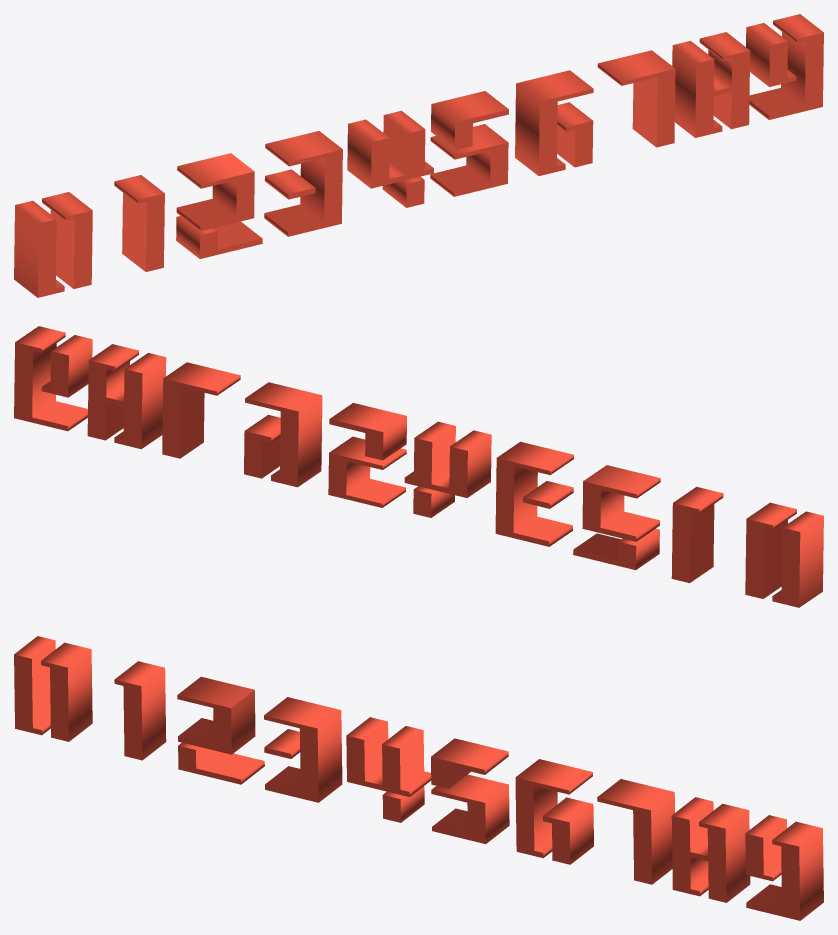
File: numbers.glb
The picture shows the model from 3 angles, top to bottom: view 1: azimuth 30°, elevation 25°; view 2: azimuth 150°, elevation 25°; view 3: azimuth 330°, elevation 25°; orthographic projection.
Visible parts, largest first — view 1: Zero, Eight, Six, Nine, Two, Three, Five, Four, Seven, One; view 2: Zero, Eight, Six, Nine, Two, Three, Five, Four, Seven, One; view 3: Zero, Eight, Nine, Six, Two, Three, Five, Four, Seven, One.
Boxes of the visible parts, x1,y1,x2,y2 form: Zero: (14, 192, 92, 297); Eight: (672, 32, 750, 137); Six: (515, 70, 593, 175); Nine: (746, 14, 823, 119); Two: (176, 153, 262, 258); Three: (264, 131, 342, 236); Five: (430, 91, 508, 196); Four: (347, 110, 433, 207); Seven: (597, 50, 675, 147); One: (114, 175, 164, 271); Zero: (745, 502, 823, 607); Eight: (87, 344, 166, 449); Six: (244, 382, 322, 487); Nine: (14, 326, 92, 431); Two: (573, 465, 660, 570); Three: (495, 441, 573, 546); Five: (328, 403, 406, 507); Four: (404, 421, 491, 517); Seven: (162, 362, 240, 458); One: (671, 486, 723, 583); Zero: (14, 636, 92, 741); Eight: (671, 797, 750, 902); Nine: (745, 815, 823, 920); Six: (515, 759, 593, 864); Two: (177, 676, 264, 784); Three: (264, 697, 342, 802); Five: (431, 738, 509, 843); Four: (346, 717, 431, 822); Seven: (597, 779, 674, 884); One: (114, 661, 166, 760).
Bounding box in the file's own units: 6.11 × 0.5786 × 0.3443.
